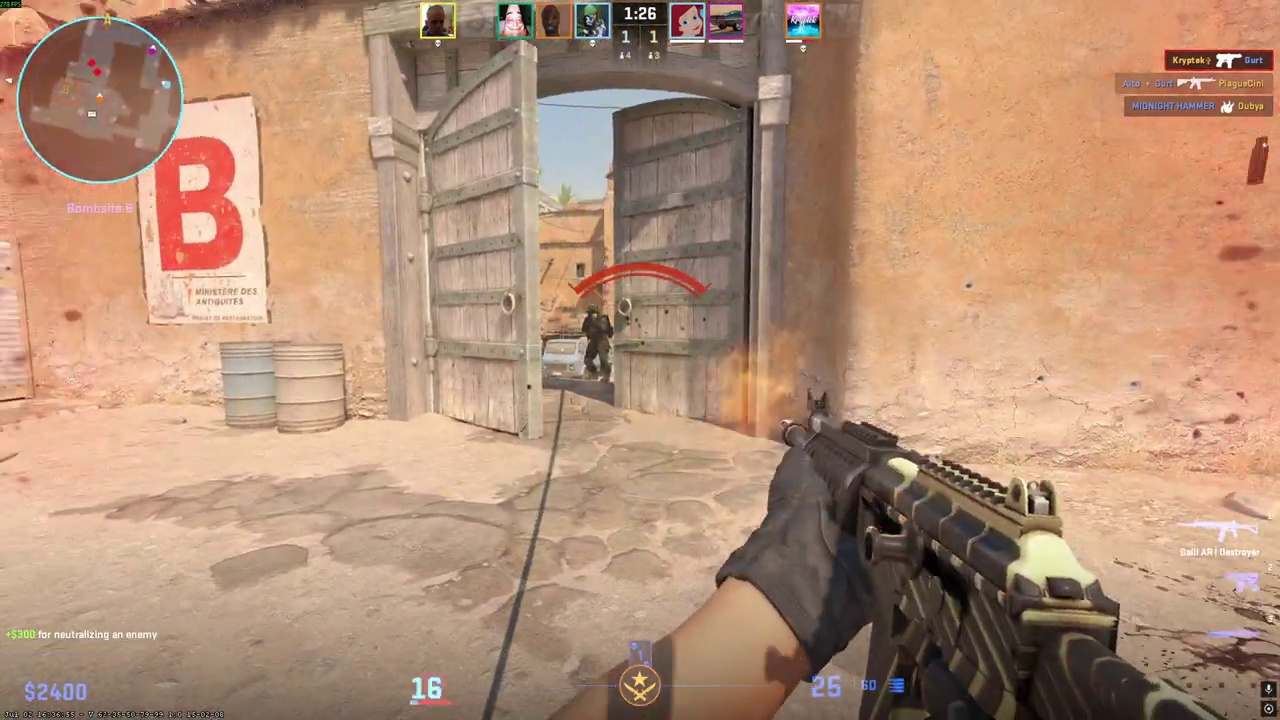CT: (581, 307, 613, 382)
